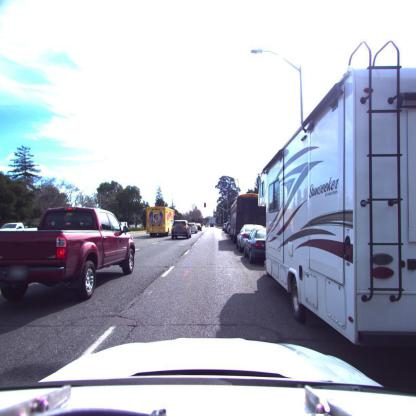bus: (259, 30, 415, 392)
car: (244, 229, 267, 265), (236, 224, 259, 252), (171, 220, 191, 239), (1, 223, 28, 230), (188, 222, 198, 235), (196, 223, 202, 232)
truck: (0, 205, 139, 307), (228, 192, 259, 246), (146, 206, 176, 235)
